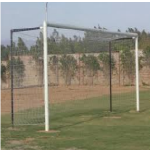goals: (8, 21, 142, 130)
